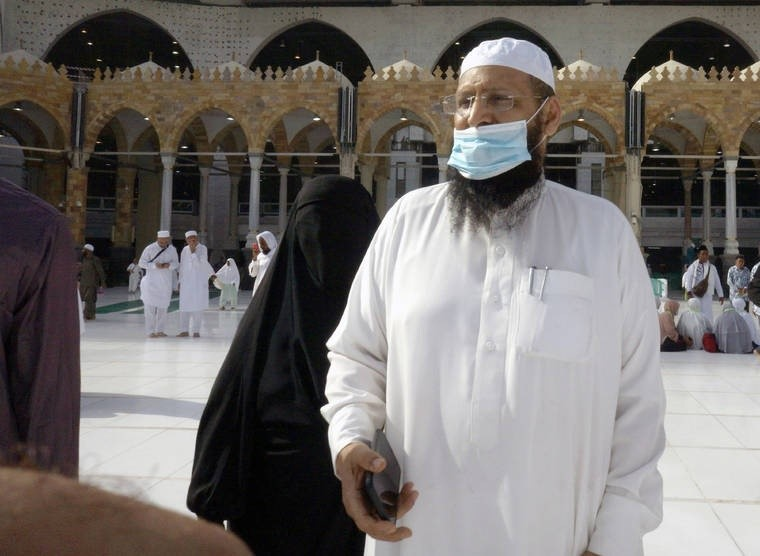face_with_mask: (444, 38, 567, 222)
